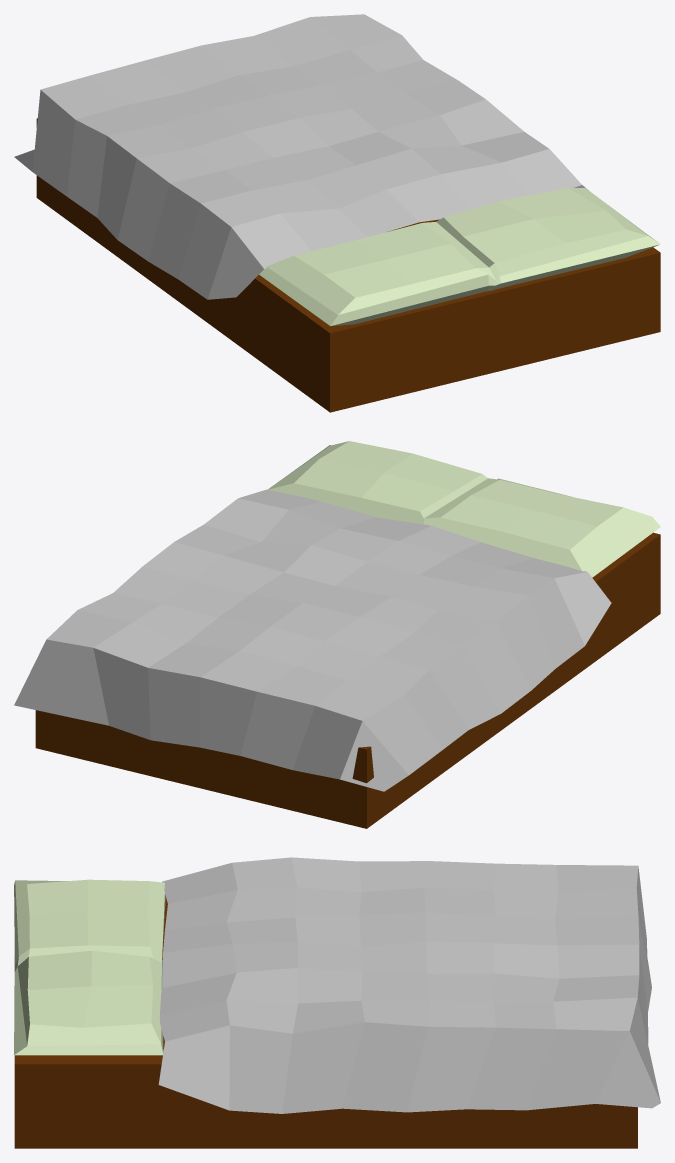
File: Bed.fbx
The picture shows the model from 3 angles, top to bottom: view 1: azimuth 30°, elevation 25°; view 2: azimuth 150°, elevation 25°; view 3: azimuth 270°, elevation 25°; orthographic projection. The views are drawn at different scales.
Visible parts, largest first — view 1: Plane.001, Cube.005, Cube.012; view 2: Plane.001, Cube.005, Cube.012; view 3: Plane.001, Cube.005, Cube.012.
Part boxes in pixels (bbox=[...]): Plane.001: bbox=[14, 14, 588, 299]; Cube.005: bbox=[36, 118, 660, 412]; Cube.012: bbox=[259, 188, 660, 326]; Plane.001: bbox=[14, 489, 611, 791]; Cube.005: bbox=[35, 532, 660, 828]; Cube.012: bbox=[267, 441, 660, 577]; Plane.001: bbox=[158, 857, 660, 1113]; Cube.005: bbox=[14, 896, 637, 1148]; Cube.012: bbox=[14, 879, 165, 1055].
Bounding box in the file's own units: 149 × 42.97 × 208.
